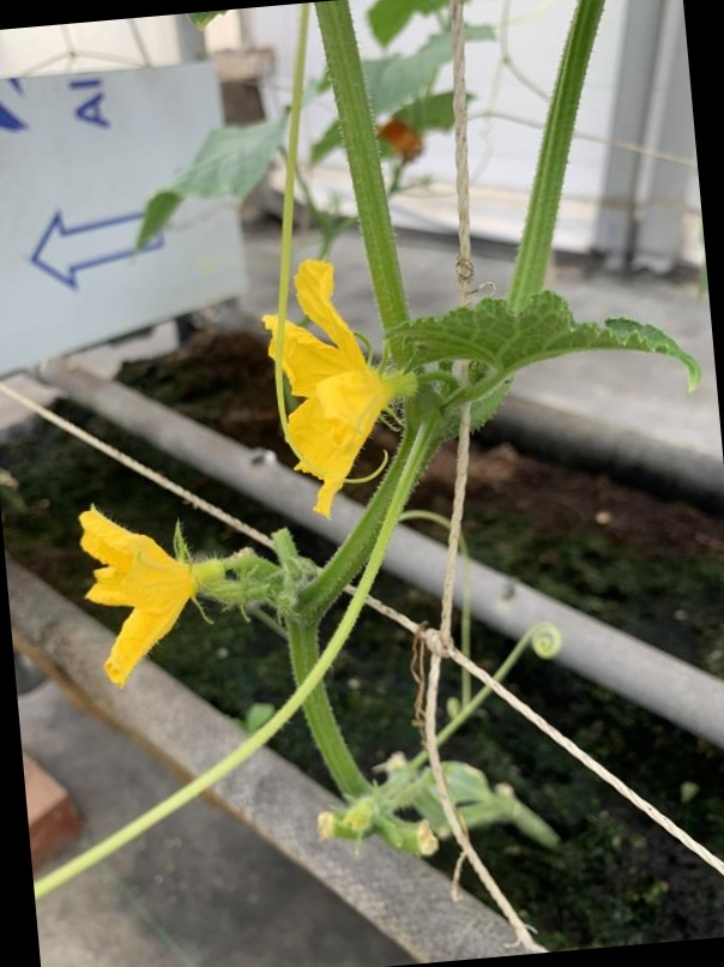flowering: (257, 244, 404, 518), (68, 497, 222, 686)
